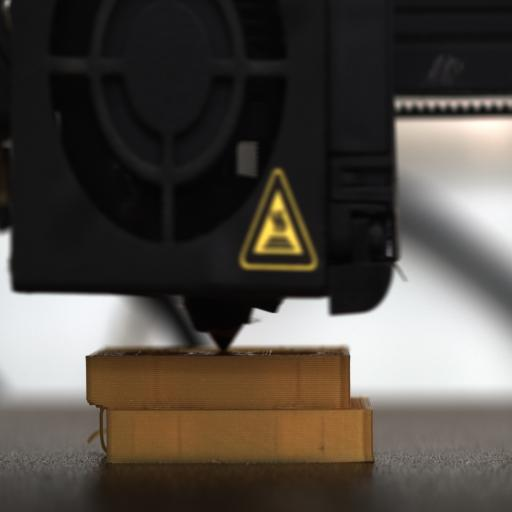layer_shift: (85, 398, 374, 422)
